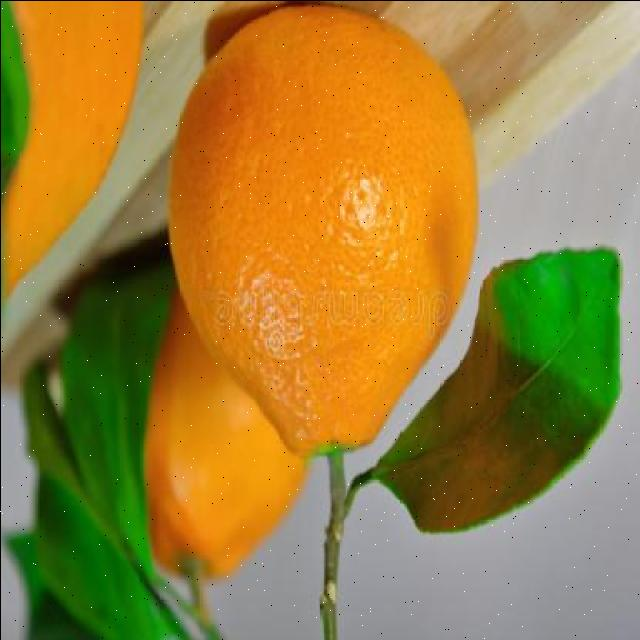Orange: (164, 3, 480, 459)
